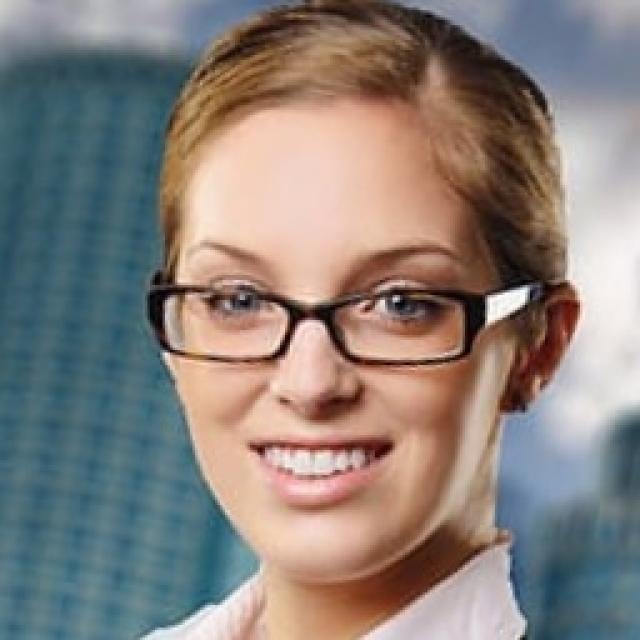glasses: (131, 253, 548, 386)
